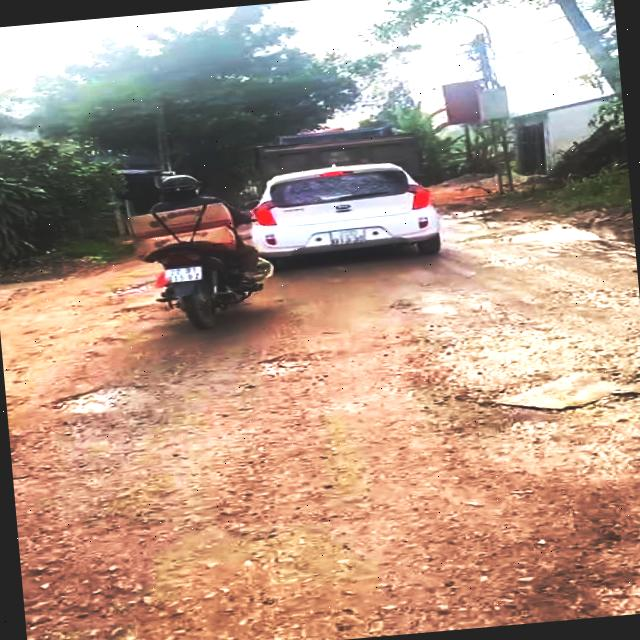pothole: (459, 362, 640, 429), (32, 374, 170, 422), (247, 343, 337, 381)
